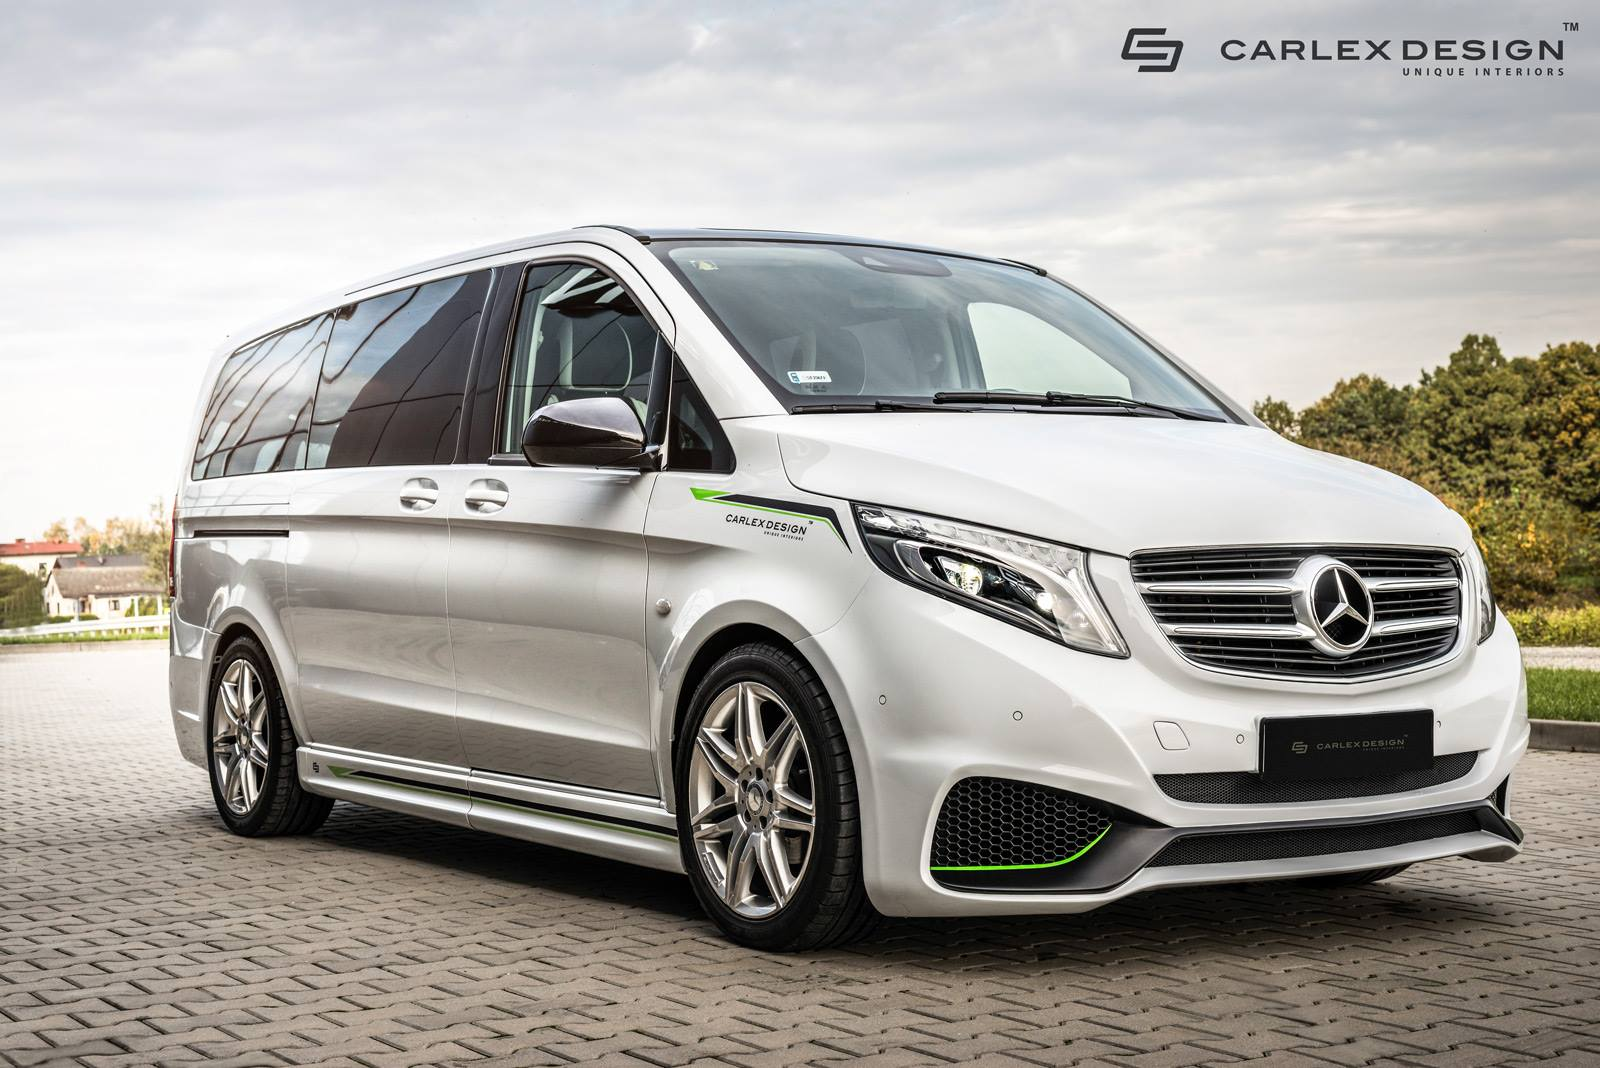van: (152, 219, 1530, 954)
